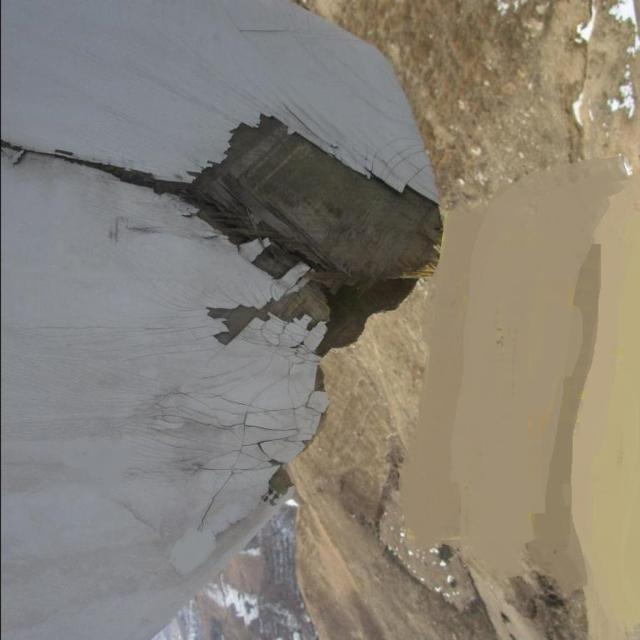crack: (138, 85, 448, 418), (5, 134, 137, 177)
